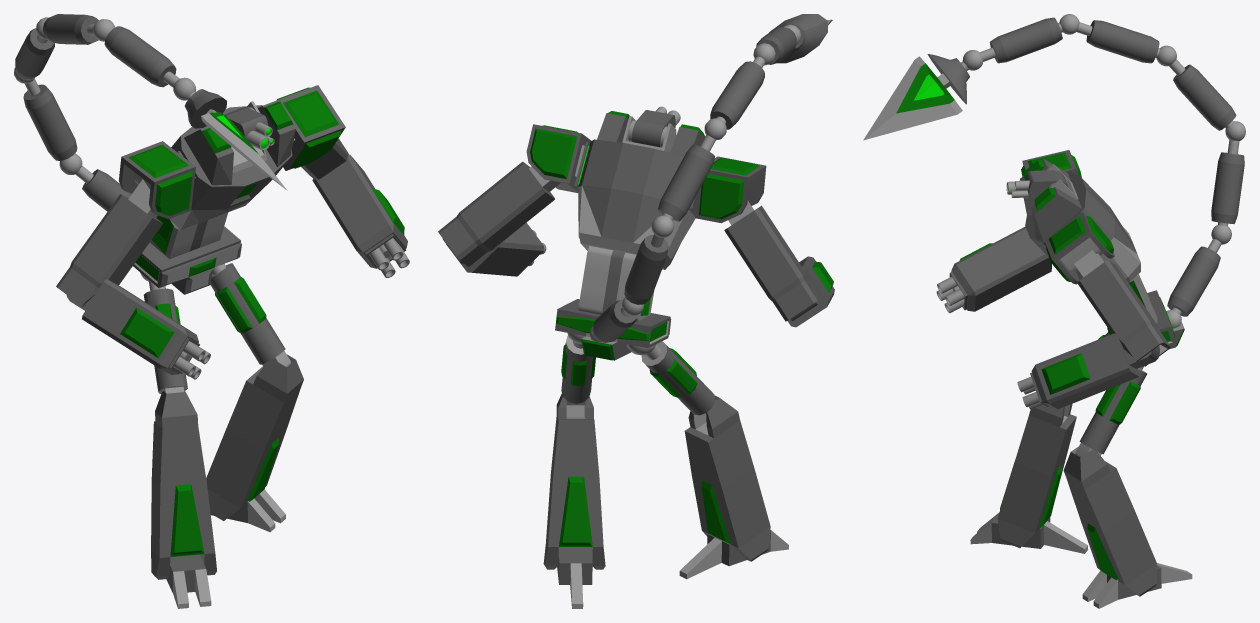
Rendered from Sting_Idle.fbx.
The picture shows the model from 3 angles, left to right: view 1: azimuth 30°, elevation 25°; view 2: azimuth 150°, elevation 25°; view 3: azimuth 270°, elevation 25°; orthographic projection. The views are drawn at different scales.
Parts seen in each view (by area): view 1: Right_Lower_Leg_S, Left_Lower_Leg_S, Torso_S, Right_Lower_Arm_S1, S_Right_UpperArm1, Left_Lower_Arm_S, S_Right_Sholder1, Left_Upper_Leg_S, Hips_S, S_Left_Sholder, Tail_End, Tail_2 (+10 smaller); view 2: Torso_S, Right_Lower_Leg_S, Left_Lower_Leg_S, S_Left_UpperArm, S_Right_UpperArm1, S_Right_Sholder1, Hips_S, Lower_Torso_S, S_Left_Sholder, Tail_3, Right_Upper_Leg_S1, Tail_4 (+10 smaller); view 3: Left_Lower_Leg_S, Right_Lower_Leg_S, Left_Lower_Arm_S, Right_Lower_Arm_S1, Torso_S, Tail_End, S_Left_UpperArm, S_Left_Sholder, Tail_4, Left_Upper_Leg_S, Tail_5, Tail_3 (+7 smaller).
Boxes of the visible parts, box(x1,y1,x2,y2) form: Right_Lower_Leg_S: box(151, 390, 216, 579); Left_Lower_Leg_S: box(206, 354, 303, 520); Torso_S: box(169, 99, 295, 230); Right_Lower_Arm_S1: box(66, 279, 210, 379); S_Right_UpperArm1: box(56, 179, 162, 306); Left_Lower_Arm_S: box(312, 154, 409, 277); S_Right_Sholder1: box(118, 141, 195, 218); Left_Upper_Leg_S: box(210, 263, 290, 367); Hips_S: box(133, 226, 241, 294); S_Left_Sholder: box(276, 85, 345, 170); Tail_End: box(173, 77, 287, 190); Tail_2: box(23, 78, 82, 174); Torso_S: box(574, 111, 705, 269); Right_Lower_Leg_S: box(684, 395, 770, 561); Left_Lower_Leg_S: box(543, 393, 605, 569); S_Left_UpperArm: box(438, 161, 560, 266); S_Right_UpperArm1: box(724, 200, 820, 321); S_Right_Sholder1: box(695, 156, 766, 223); Hips_S: box(555, 299, 671, 360); Lower_Torso_S: box(578, 246, 654, 321); S_Left_Sholder: box(526, 124, 591, 192); Tail_3: box(651, 135, 715, 237); Right_Upper_Leg_S1: box(626, 341, 715, 417); Tail_4: box(704, 56, 765, 140); Left_Lower_Leg_S: box(1063, 446, 1156, 596); Right_Lower_Leg_S: box(997, 404, 1076, 547); Left_Lower_Arm_S: box(1017, 333, 1159, 409); Right_Lower_Arm_S1: box(936, 226, 1051, 313); Torso_S: box(1020, 158, 1140, 282); Tail_End: box(863, 50, 983, 140); S_Left_UpperArm: box(1074, 250, 1170, 366); S_Left_Sholder: box(1044, 212, 1114, 284); Tail_4: box(1076, 20, 1176, 66); Left_Upper_Leg_S: box(1075, 366, 1147, 457); Tail_5: box(980, 14, 1079, 63); Tail_3: box(1169, 59, 1245, 141).
Bounding box in the file's own units: 143 × 223 × 153.
